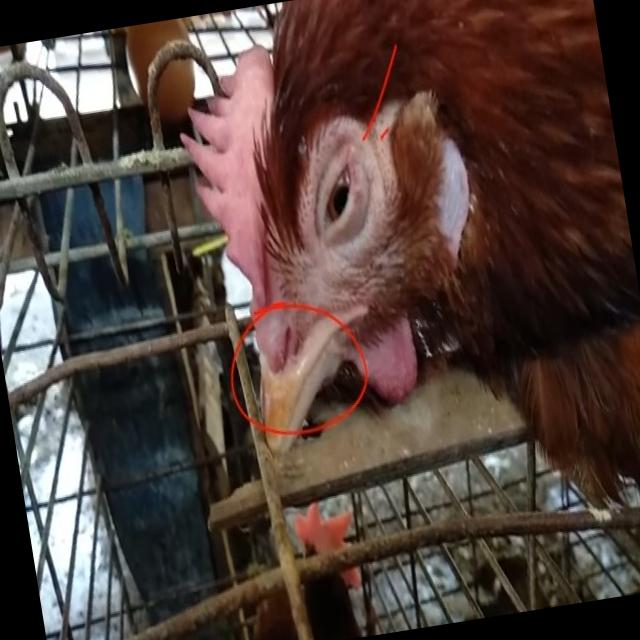bird flu: (131, 0, 640, 558)
